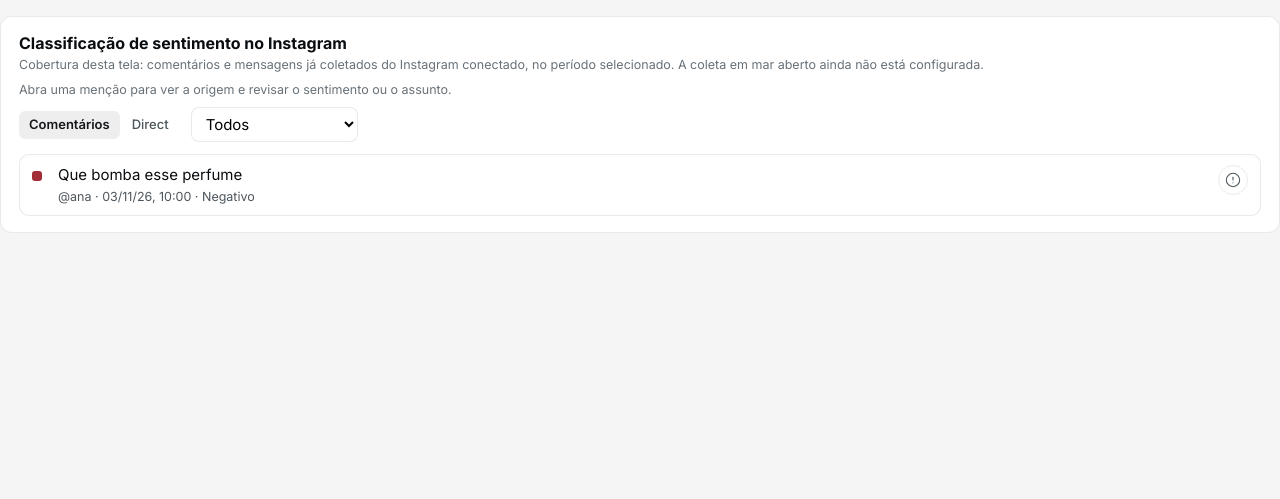
Scenario: MentionReview › mostra de onde veio e deixa a equipe corrigir e tirar da avaliação
This screenshot has width=1280, height=499.
Click the button named "De onde veio e revisar" at (1233, 180), box x1=1218 y1=165 x2=1248 y2=195
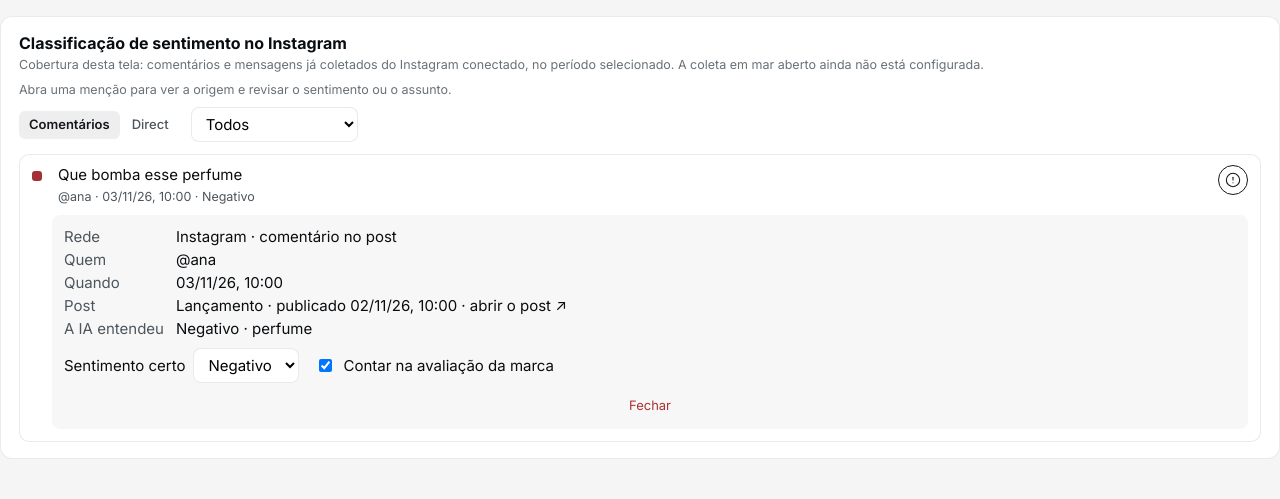
Now the text "Lançamento" is shown, box x1=176 y1=296 x2=263 y2=315
Now the text "A IA entendeu" is shown, box x1=64 y1=319 x2=164 y2=338
Select "Positivo" in the dropdown labelled "Sentimento certo" at (246, 366), box x1=194 y1=348 x2=300 y2=383
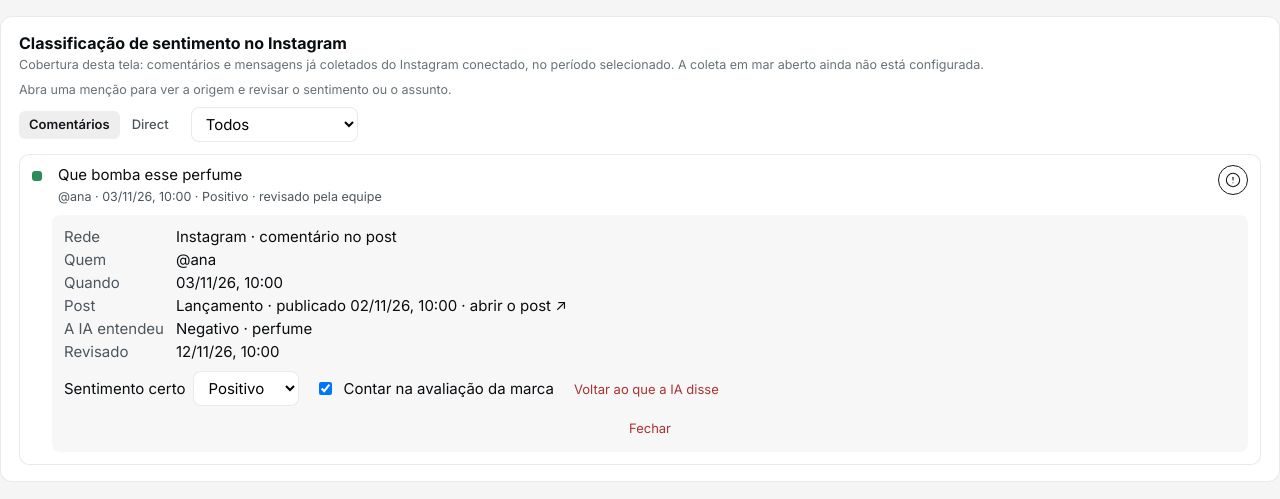
Now the text "revisado pela equipe" is shown, box x1=248 y1=189 x2=382 y2=204
Click the checkbox labelled "Contar na avaliação da marca" at (326, 388), box x1=320 y1=382 x2=332 y2=395
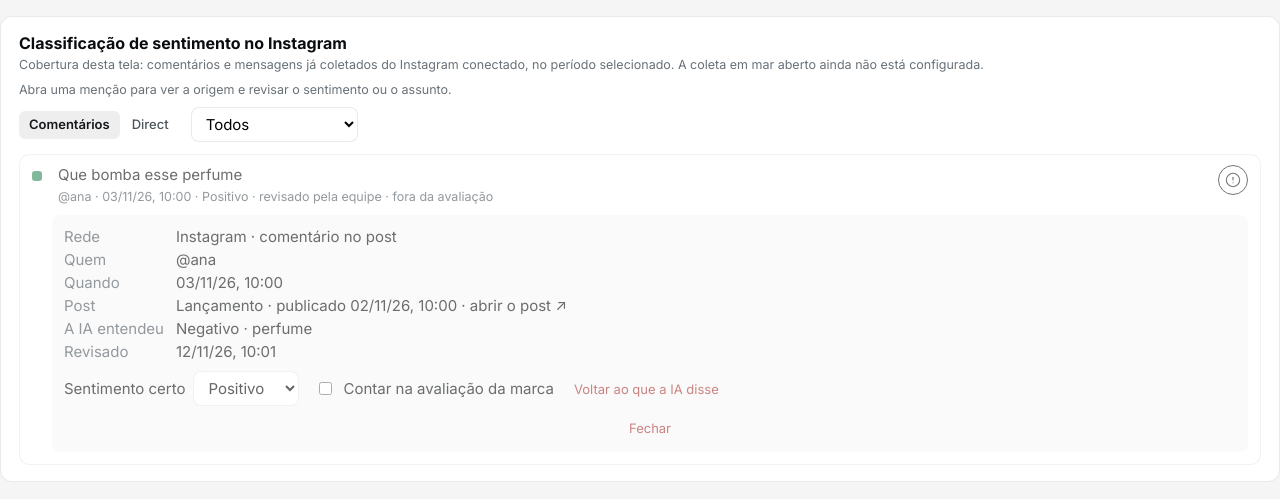
Now the text "fora da avaliação" is shown, box x1=382 y1=189 x2=493 y2=204
